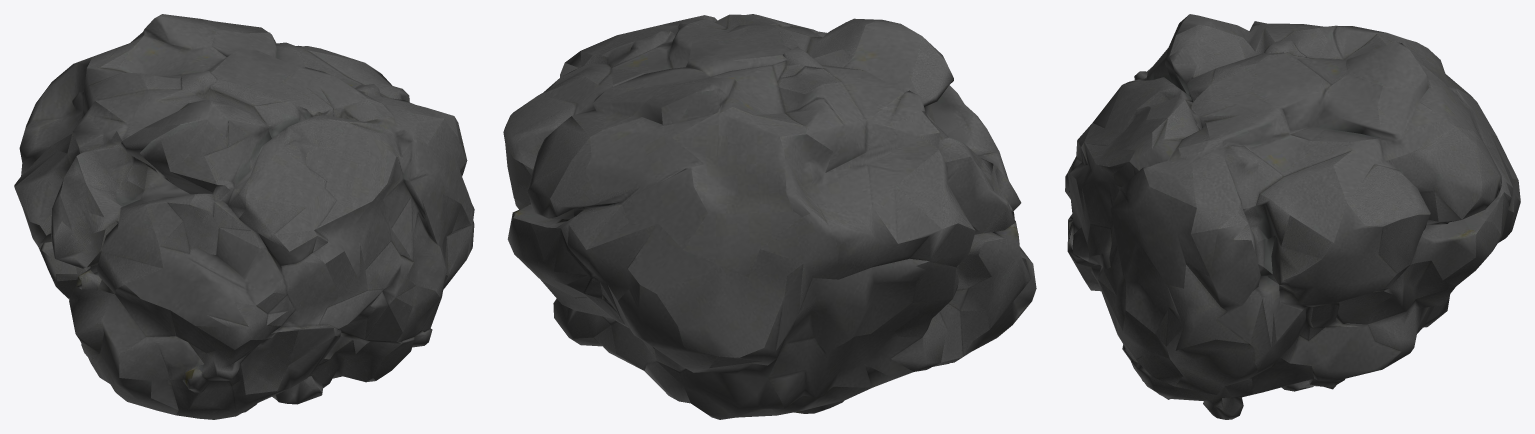
Rendered from rock.glb.
3 renders of one model, left to right at view 1: azimuth 30°, elevation 25°; view 2: azimuth 150°, elevation 25°; view 3: azimuth 270°, elevation 25°, orthographic. The views are drawn at different scales.
Visible parts, largest first — view 1: Mesh_0; view 2: Mesh_0; view 3: Mesh_0.
Boxes of the visible parts, box(x1,y1,x2,y2) form: Mesh_0: box(14, 14, 474, 419); Mesh_0: box(503, 14, 1036, 419); Mesh_0: box(1065, 14, 1520, 419).
Size of the model in its own units: 1.89 by 1.36 by 1.85.
1 material, 1 textured.
